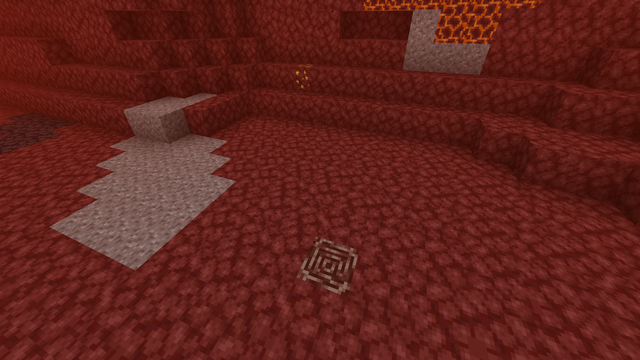debris: (298, 236, 359, 297)
gold: (292, 60, 316, 88)
